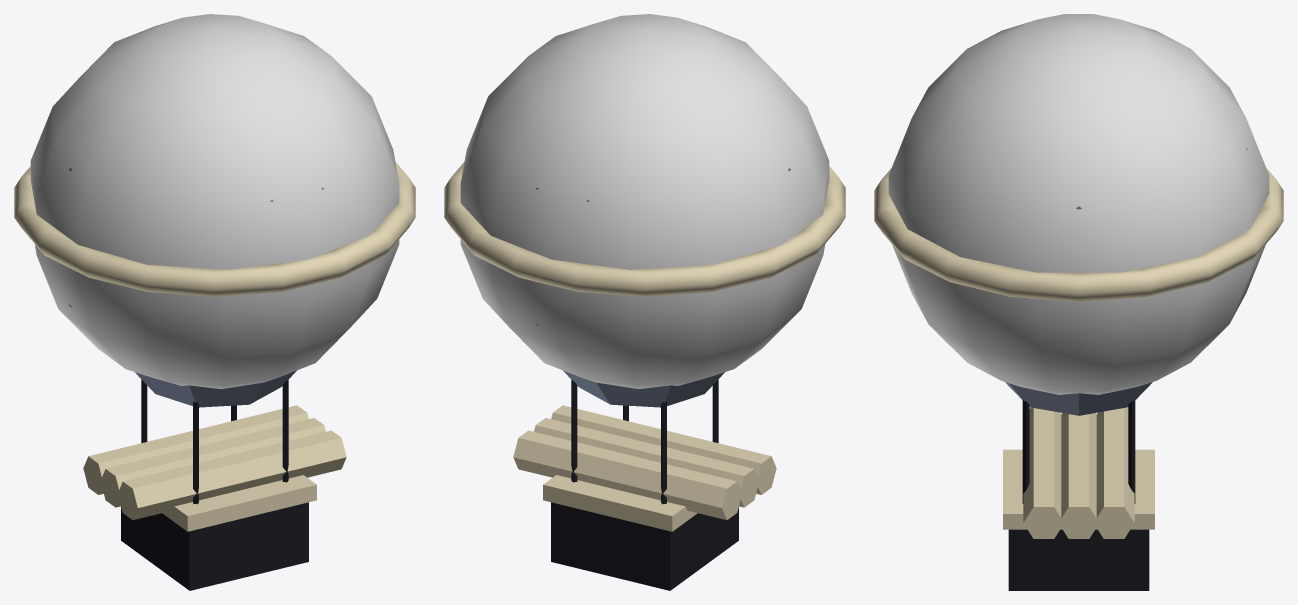
File: Balloon_0.fbx
The picture shows the model from 3 angles, left to right: view 1: azimuth 30°, elevation 25°; view 2: azimuth 150°, elevation 25°; view 3: azimuth 270°, elevation 25°; orthographic projection.
Parts seen in each view (by area): view 1: Balloon_0; view 2: Balloon_0; view 3: Balloon_0.
Part boxes in pixels (bbox=[...]): Balloon_0: bbox=[14, 14, 415, 590]; Balloon_0: bbox=[444, 14, 845, 590]; Balloon_0: bbox=[874, 14, 1283, 590].
Bounding box in the file's own units: 0.71 × 1 × 0.6992.
